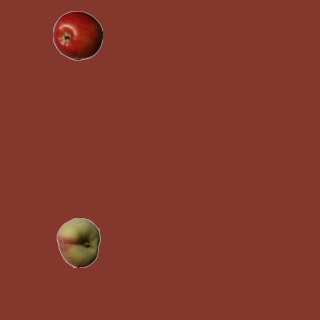Apple Braeburn: (52, 10, 102, 60)
Peach Flat: (53, 217, 103, 267)
